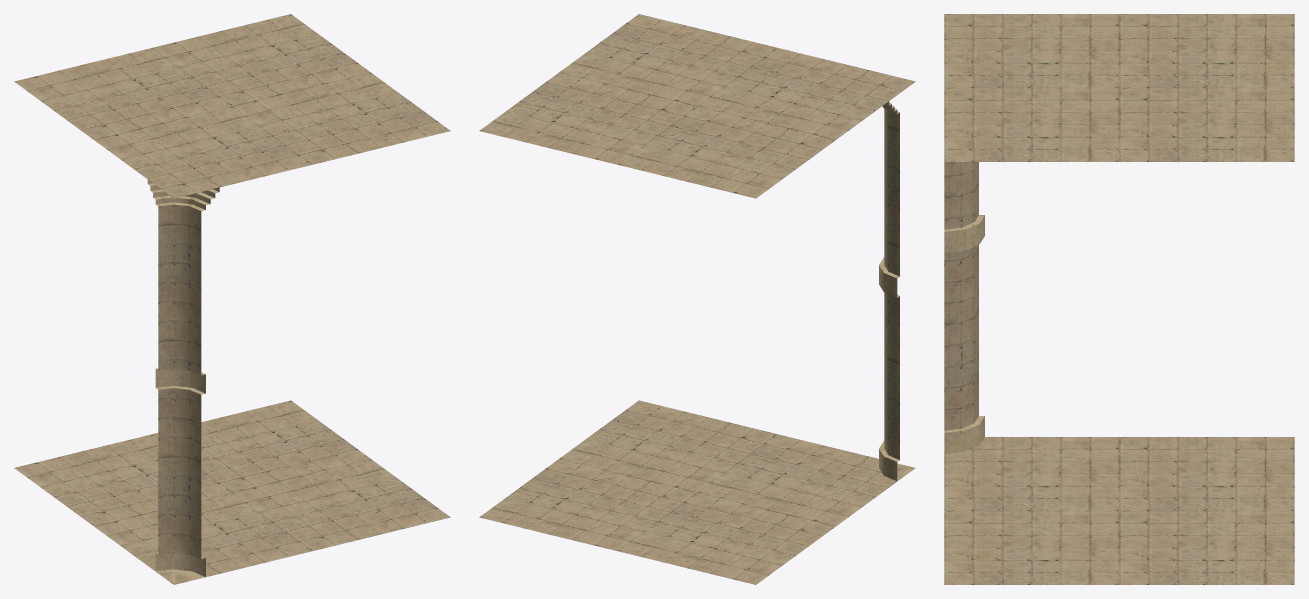
File: WallOuterCorner.obj
The picture shows the model from 3 angles, left to right: view 1: azimuth 30°, elevation 25°; view 2: azimuth 150°, elevation 25°; view 3: azimuth 270°, elevation 25°; orthographic projection. The views are drawn at different scales.
Visible parts, largest first — view 1: Object22, Object14, Cylinder20, Object30; view 2: Object22, Object14, Cylinder20, Object30; view 3: Object22, Object14, Cylinder20, Object30.
Boxes of the visible parts, x1,y1,x2,y2 form: Object22: [14, 14, 450, 198]; Object14: [14, 400, 450, 584]; Cylinder20: [158, 204, 201, 558]; Object30: [147, 179, 219, 584]; Object22: [479, 14, 915, 198]; Object14: [479, 400, 914, 584]; Cylinder20: [884, 109, 899, 459]; Object30: [879, 101, 915, 481]; Object22: [944, 14, 1294, 161]; Object14: [944, 437, 1294, 584]; Cylinder20: [944, 162, 978, 430]; Object30: [944, 215, 984, 453].
Bounding box in the file's own units: 3 × 4 × 3.
Materials: 2 (2 with a texture image).
